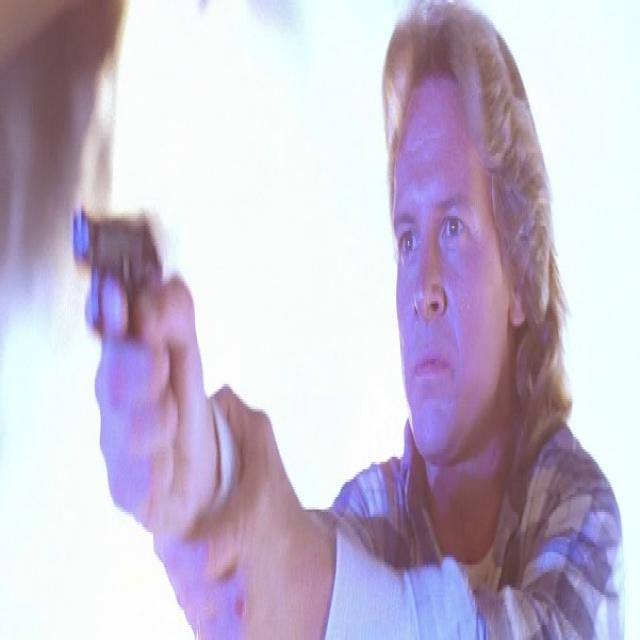weapons: (60, 152, 182, 452)
